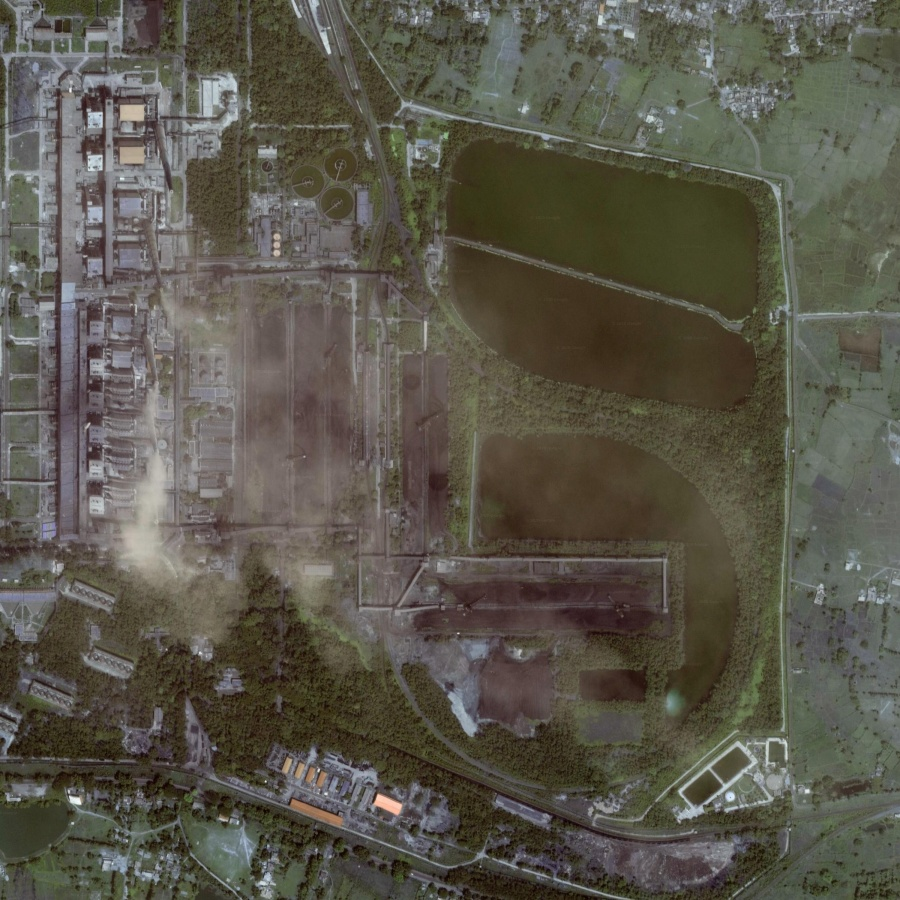PowerPlant: (130, 273, 460, 594), (394, 556, 678, 742)
